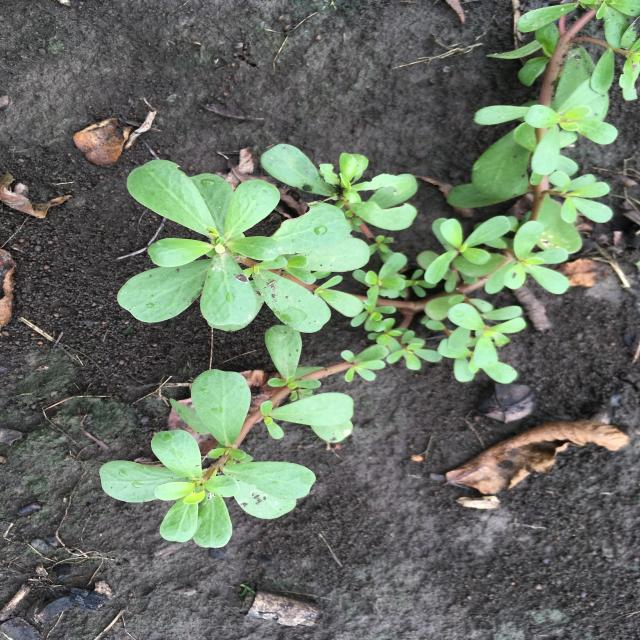Purslane: (99, 0, 640, 548)
